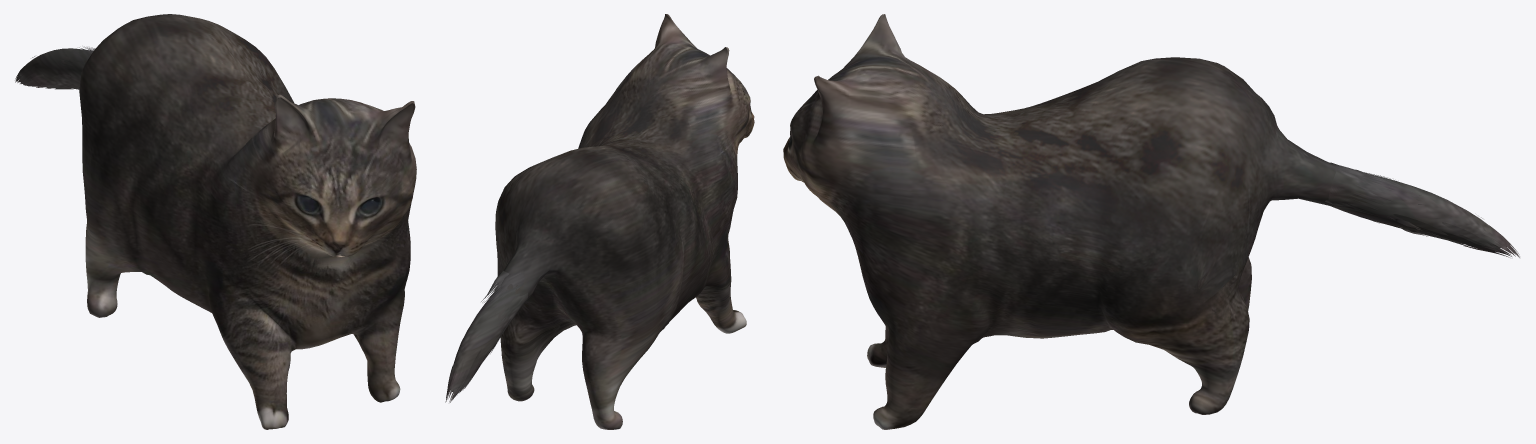
The model's file is oiia_cat.glb.
3 renders of one model, left to right at view 1: azimuth 30°, elevation 25°; view 2: azimuth 150°, elevation 25°; view 3: azimuth 270°, elevation 25°, orthographic. The views are drawn at different scales.
Visible parts, largest first — view 1: Muchkin1.002; view 2: Muchkin1.002; view 3: Muchkin1.002.
Part boxes in pixels (x1,y1,x2,y2): Muchkin1.002: (15,14,416,429); Muchkin1.002: (445,14,754,429); Muchkin1.002: (783,14,1519,429).
Size of the model in its own units: 23.92 by 38.66 by 72.42.
1 material, 1 textured.
